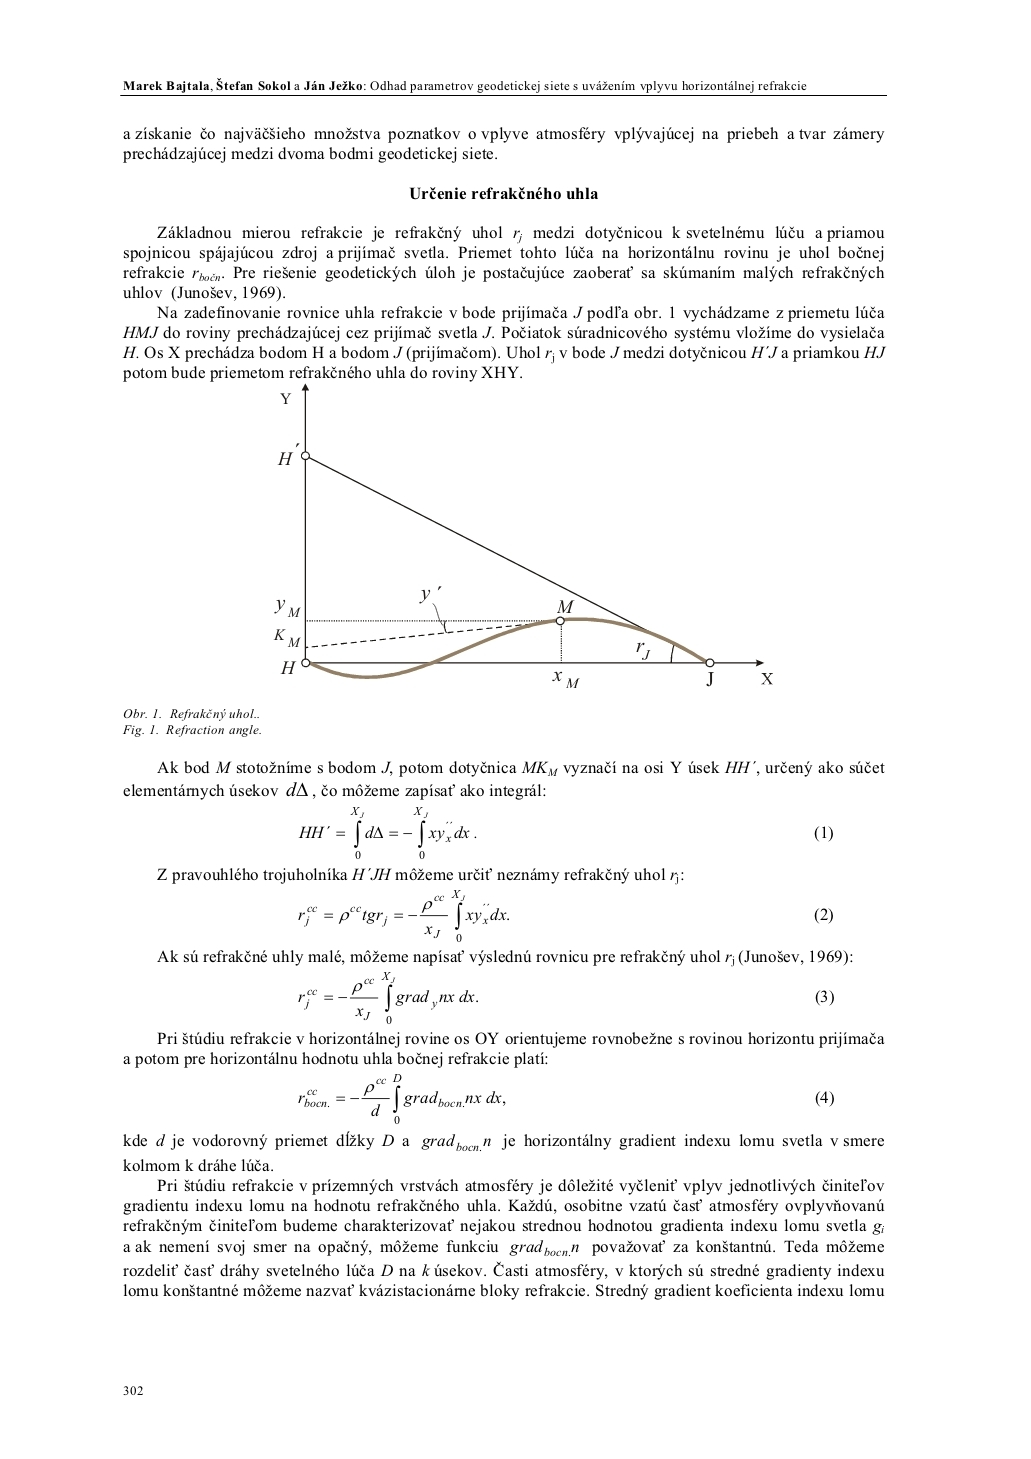figure: (273, 383, 772, 687)
formula: (298, 888, 832, 943), (298, 972, 834, 1024), (298, 1073, 834, 1124), (298, 805, 832, 848)
